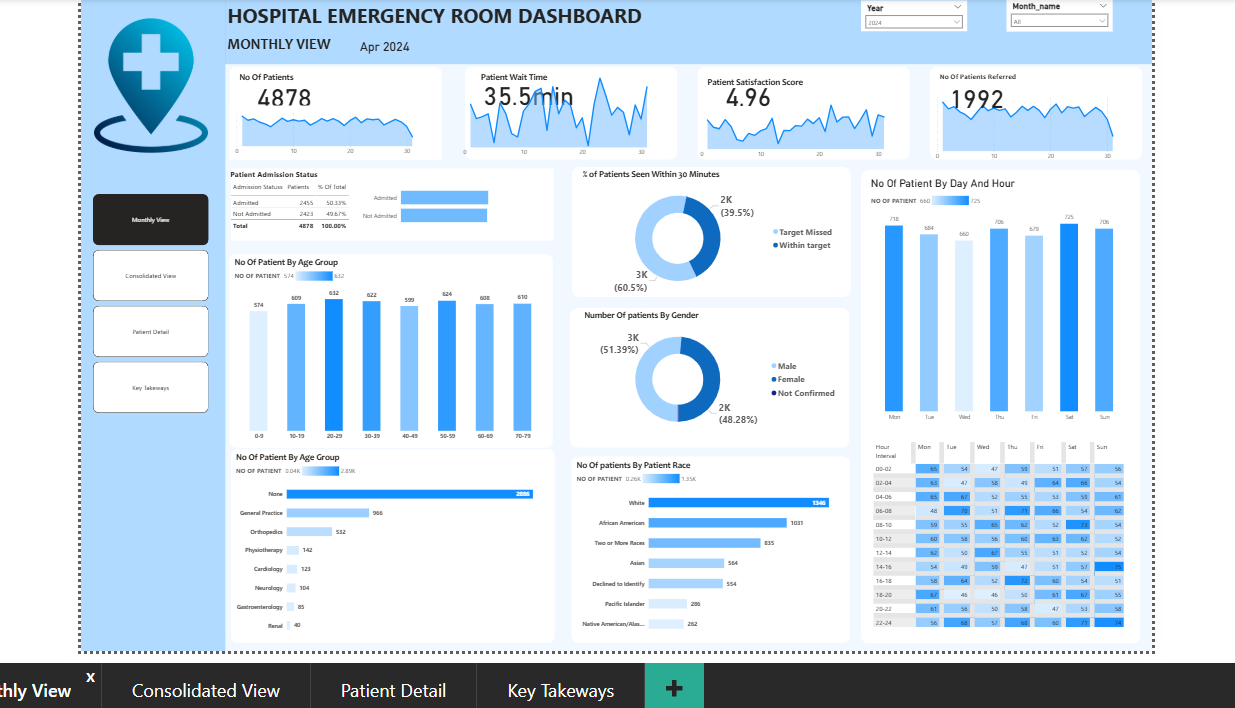

Layout of this report page (visuals, bound fields, positions):
{"tool":"powerbi","page":{"name":"Monthly View ","canvas":[2300,1400],"ordinal":0},"visuals":[{"type":"card","fields":{"Values":["Hospital ER_Data.NO OF PATIENT"]},"box":[176,162,518,88],"z":0,"group":"g1"},{"type":"shape","box":[825.3,146,456,200],"z":0},{"type":"shape","box":[0,0,310,1402],"z":1000},{"type":"areaChart","fields":{"Category":["Date Table.Date.Variation.Date Hierarchy.Day"],"Y":["Hospital ER_Data.NO OF PATIENT"]},"box":[496,364,456,140],"z":1000,"group":"g1"},{"type":"shape","box":[309.2,0,1990.5,140],"z":2000},{"type":"textbox","box":[309.2,0,1990.5,70.9],"z":3000},{"type":"textbox","box":[310,70,282,70],"z":4000},{"type":"slicer","fields":{"Values":["Date Table.Year"]},"box":[1674,4,228,66],"z":5000},{"type":"shape","box":[320,146,456,200],"z":6000},{"type":"slicer","fields":{"Values":["Date Table.Month_name"]},"box":[1988,0,228,70],"z":7000},{"type":"textbox","box":[336,150,366,80],"z":8000},{"type":"card","fields":{"Values":["Hospital ER_Data.Avg Wait Time"]},"box":[702,158,518,88],"z":9000},{"type":"card","fields":{"Values":["Min(Date Table.MONTH_YEAR)"]},"box":[548,70,208,58],"z":10000},{"type":"group","id":"g1","title":"Group 1","box":[176,162,776,342],"z":11000},{"type":"shape","box":[1323.7,146,456,200],"z":12000},{"type":"shape","box":[1822,146,456,200],"z":13000},{"type":"textbox","box":[854,150,366,80],"z":14000},{"type":"areaChart","fields":{"Y":["Hospital ER_Data.NO OF PATIENT"],"Category":["Date Table.Date.Variation.Date Hierarchy.Day"]},"box":[320,230,456,116],"z":15000},{"type":"areaChart","fields":{"Category":["Date Table.Date.Variation.Date Hierarchy.Day"],"Y":["Avg(Hospital ER_Data.Patient Waittime)"]},"box":[810,150,472,196],"z":16000},{"type":"textbox","box":[1840,150,340,54],"z":17000},{"type":"card","fields":{"Values":["Avg(Hospital ER_Data.Patient Satisfaction Score)"]},"box":[1324,154,218,98],"z":18000},{"type":"areaChart","fields":{"Category":["Date Table.Date.Variation.Date Hierarchy.Day"],"Y":["Avg(Hospital ER_Data.Patient Satisfaction Score)"]},"box":[1316,202,472,148],"z":19000},{"type":"textbox","box":[1340,160,344,52],"z":20000},{"type":"areaChart","fields":{"Y":["Hospital ER_Data.NO OF PATIENT"],"Category":["Date Table.Date.Variation.Date Hierarchy.Day"]},"box":[1822,194,456,162],"z":21000},{"type":"card","fields":{"Values":["Hospital ER_Data.no of patients referred"]},"box":[1742,118,360,178],"z":22000},{"type":"shape","box":[320.7,365.5,693.1,155.2],"z":23000},{"type":"tableEx","title":"Patient Admission Status","fields":{"Values":["Hospital ER_Data.Admission Statuss","CountNonNull(Hospital ER_Data.Admission Statuss)","Divide(CountNonNull(Hospital ER_Data.Admission Statuss), ScopedEval(CountNonNull(Hospital ER_Data.Admission Statuss), []"]},"box":[316,364,276,140],"z":24000},{"type":"clusteredBarChart","fields":{"Category":["Hospital ER_Data.Admission Statuss"],"Y":["CountNonNull(Hospital ER_Data.Admission Statuss)"]},"box":[592,364,328,156],"z":25000},{"type":"clusteredColumnChart","title":"No Of Patient By Age Group","fields":{"Category":["Hospital ER_Data.Age Group"],"Y":["Hospital ER_Data.NO OF PATIENT"]},"box":[320,548,694,416],"z":26000},{"type":"clusteredBarChart","title":"No Of Patient By Age Group","fields":{"Category":["Hospital ER_Data.Department Referral"],"Y":["Hospital ER_Data.NO OF PATIENT"]},"box":[320.8,966,694.3,417],"z":27000},{"type":"shape","box":[1051.7,362.1,600,279.3],"z":28000},{"type":"donutChart","title":"% of Patients Seen Within 30 Minutes","fields":{"Category":["Hospital ER_Data.waitte status"],"Y":["Hospital ER_Data.NO OF PATIENT"]},"box":[1072.4,365.5,555.2,275.9],"z":29000},{"type":"shape","box":[1050.9,662.3,600,300],"z":30000},{"type":"donutChart","title":"Number Of patients By Gender","fields":{"Y":["Hospital ER_Data.NO OF PATIENT"],"Category":["Hospital ER_Data.Patient Gender"]},"box":[1075.5,666,556.6,275.5],"z":31000},{"type":"clusteredBarChart","title":"No Of patients By Patient Race","fields":{"Y":["Hospital ER_Data.NO OF PATIENT"],"Category":["Hospital ER_Data.Patient Race"]},"box":[1052.8,983,598.1,400],"z":32000},{"type":"shape","box":[1673.6,366,600,1017],"z":33000},{"type":"pivotTable","fields":{"Rows":["Hospital ER_Data.Hour Interval"],"Columns":["Date Table.Day Name"],"Values":["Hospital ER_Data.NO OF PATIENT"]},"box":[1692.5,941.5,562.3,441.5],"z":34000},{"type":"clusteredColumnChart","title":"No Of Patient By  Day And Hour","fields":{"Category":["Date Table.Day Name"],"Y":["Hospital ER_Data.NO OF PATIENT"]},"box":[1692.5,383,562.3,532.1],"z":35000},{"type":"image","box":[0,34.5,300,300],"z":36000},{"type":"pageNavigator","box":[26,418,248,470],"z":37000}]}

Visuals, with their boxes on the page's 2300x1400 design canvas (x1, y1, x2, y2). These are canvas units, not pixel positions in the 1235x708 screenshot, which may show the page scaled, cropped or inside an application window:
card - Hospital ER_Data.NO OF PATIENT: 176/162/694/250
shape: 825/146/1281/346
shape: 0/0/310/1402
areaChart - Date Table.Date.Variation.Date Hierarchy.Day x Hospital ER_Data.NO OF PATIENT: 496/364/952/504
shape: 309/0/2300/140
textbox: 309/0/2300/71
textbox: 310/70/592/140
slicer - Date Table.Year: 1674/4/1902/70
shape: 320/146/776/346
slicer - Date Table.Month_name: 1988/0/2216/70
textbox: 336/150/702/230
card - Hospital ER_Data.Avg Wait Time: 702/158/1220/246
card - Min(Date Table.MONTH_YEAR): 548/70/756/128
"Group 1" group: 176/162/952/504
shape: 1324/146/1780/346
shape: 1822/146/2278/346
textbox: 854/150/1220/230
areaChart - Hospital ER_Data.NO OF PATIENT x Date Table.Date.Variation.Date Hierarchy.Day: 320/230/776/346
areaChart - Date Table.Date.Variation.Date Hierarchy.Day x Avg(Hospital ER_Data.Patient Waittime): 810/150/1282/346
textbox: 1840/150/2180/204
card - Avg(Hospital ER_Data.Patient Satisfaction Score): 1324/154/1542/252
areaChart - Date Table.Date.Variation.Date Hierarchy.Day x Avg(Hospital ER_Data.Patient Satisfaction Score): 1316/202/1788/350
textbox: 1340/160/1684/212
areaChart - Hospital ER_Data.NO OF PATIENT x Date Table.Date.Variation.Date Hierarchy.Day: 1822/194/2278/356
card - Hospital ER_Data.no of patients referred: 1742/118/2102/296
shape: 321/366/1014/521
"Patient Admission Status" tableEx: 316/364/592/504
clusteredBarChart - Hospital ER_Data.Admission Statuss x CountNonNull(Hospital ER_Data.Admission Statuss): 592/364/920/520
"No Of Patient By Age Group" clusteredColumnChart: 320/548/1014/964
"No Of Patient By Age Group" clusteredBarChart: 321/966/1015/1383
shape: 1052/362/1652/641
"% of Patients Seen Within 30 Minutes" donutChart: 1072/366/1628/641
shape: 1051/662/1651/962
"Number Of patients By Gender" donutChart: 1076/666/1632/942
"No Of patients By Patient Race" clusteredBarChart: 1053/983/1651/1383
shape: 1674/366/2274/1383
pivotTable - Hospital ER_Data.Hour Interval x Date Table.Day Name: 1692/942/2255/1383
"No Of Patient By  Day And Hour" clusteredColumnChart: 1692/383/2255/915
image: 0/34/300/334
pageNavigator: 26/418/274/888
